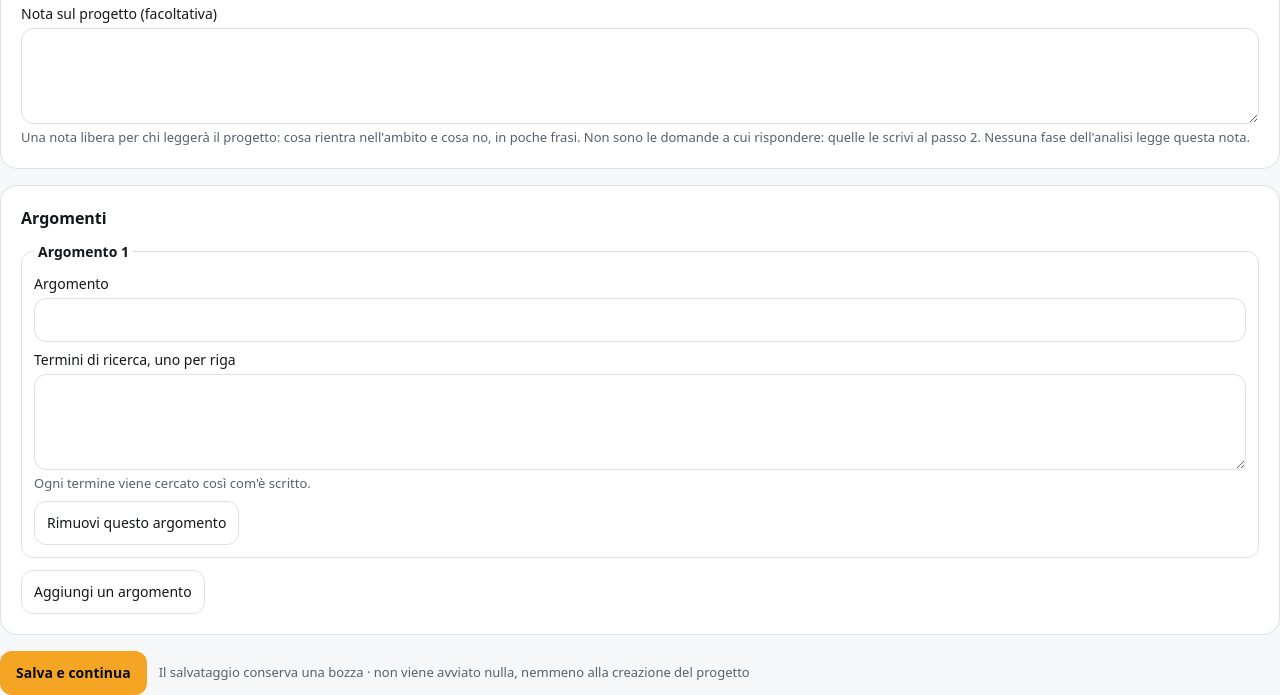
Scenario: the wizard in Italian › shows step 1 in Italian and an error code as an Italian sentence over the engine's message
The width and height of the screenshot is (1280, 695).
(page scrolled)
Expected: the element "Argomento 1" is shown, [21,242,1259,558]
Click the button "Salva e continua".
click(73, 673)  # box [0,651,147,694]
(page scrolled)
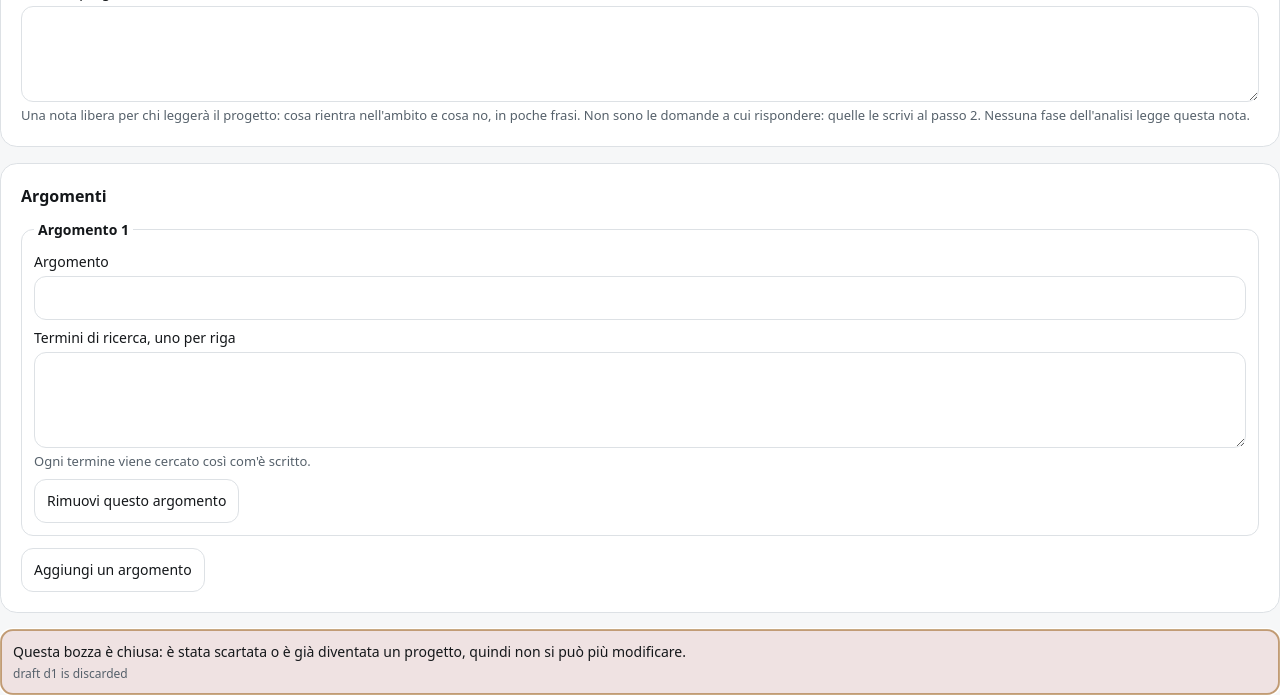
Result: the text "Questa bozza è chiusa" is shown at [13,642,686,661]
Result: the text "draft d1 is discarded" is shown at [13,665,128,682]
